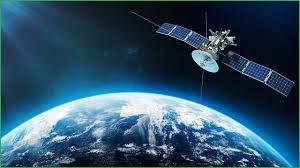antenna: (190, 48, 220, 75)
body: (198, 27, 239, 63)
solar: (220, 49, 297, 99), (154, 21, 211, 51)
